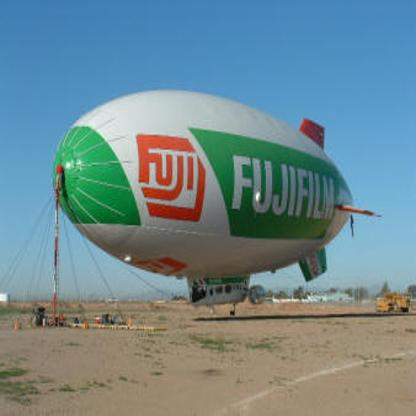Airship: (54, 90, 386, 310)
